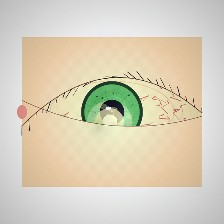corneal_ulcer: (86, 103, 133, 140)
